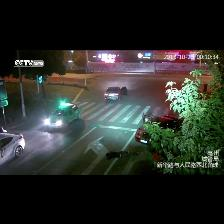person: (106, 151, 139, 159)
